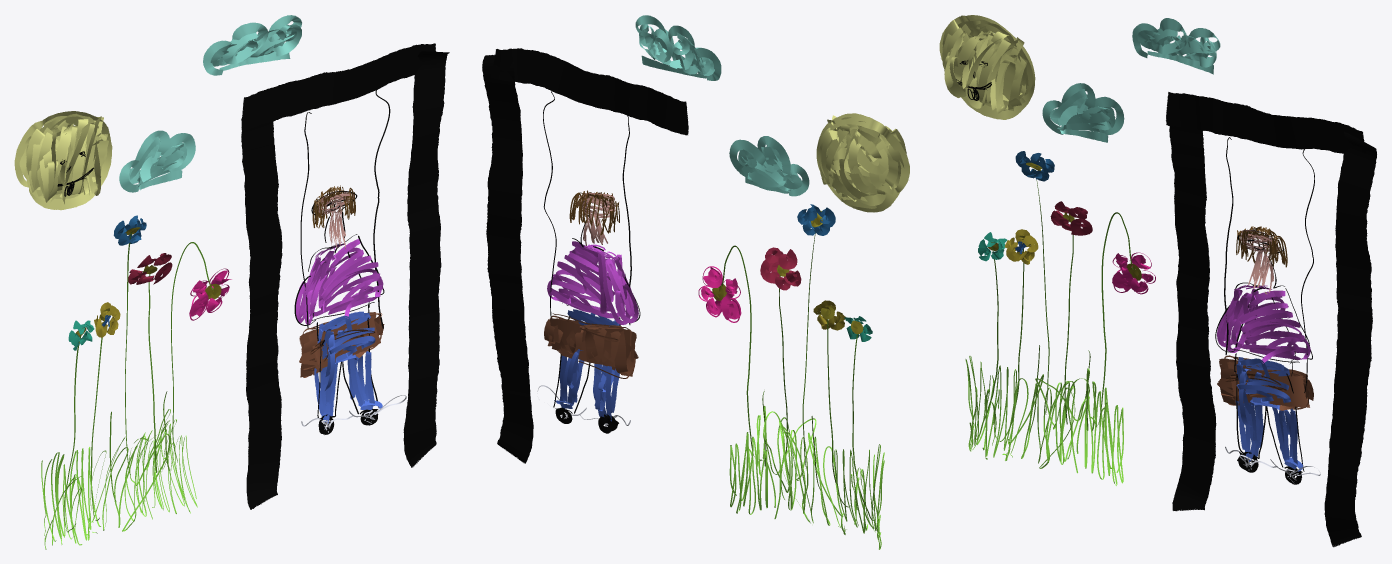
3 renders of one model, left to right at view 1: azimuth 30°, elevation 25°; view 2: azimuth 150°, elevation 25°; view 3: azimuth 330°, elevation 25°, orthographic. The views are drawn at different scales.
Parts seen in each view (by area): view 1: brush_Paper_g0_b0; view 2: brush_Paper_g0_b0; view 3: brush_Paper_g0_b0.
Boxes of the visible parts, x1,y1,x2,y2 form: brush_Paper_g0_b0: (14, 15, 449, 549); brush_Paper_g0_b0: (482, 15, 909, 549); brush_Paper_g0_b0: (939, 15, 1376, 547).
Size of the model in its own units: 0.1778 by 0.1922 by 0.0172.
Materials: 1 (1 with a texture image).
